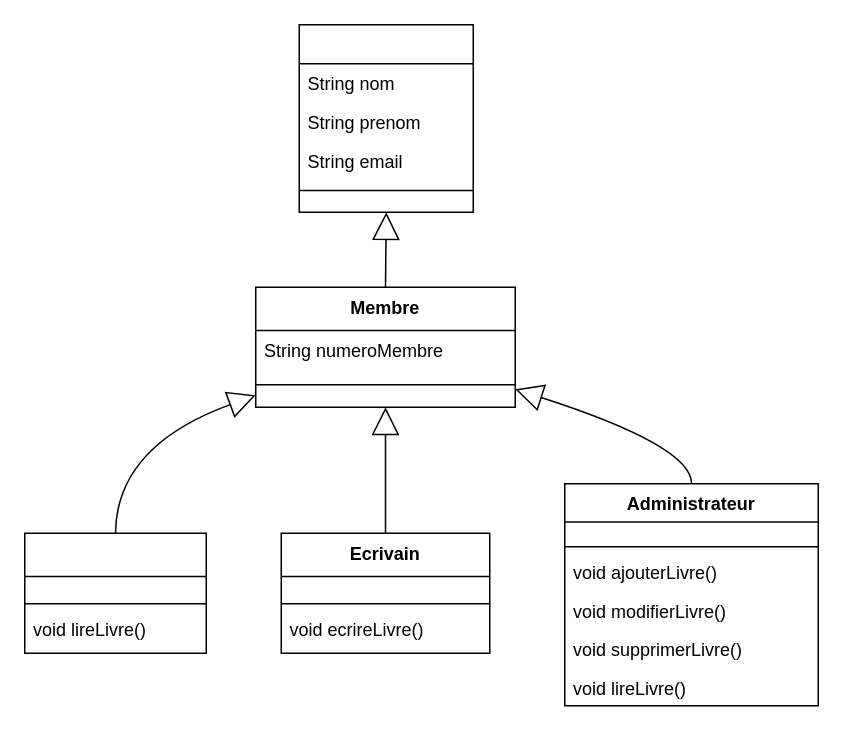
The diagram is 843 pixels wide and 731 high, and some of its shapes have lost their labels. Each missing label, with the box of its shape:
Lecteur: (23, 532, 206, 653)
Personne: (298, 23, 473, 212)
